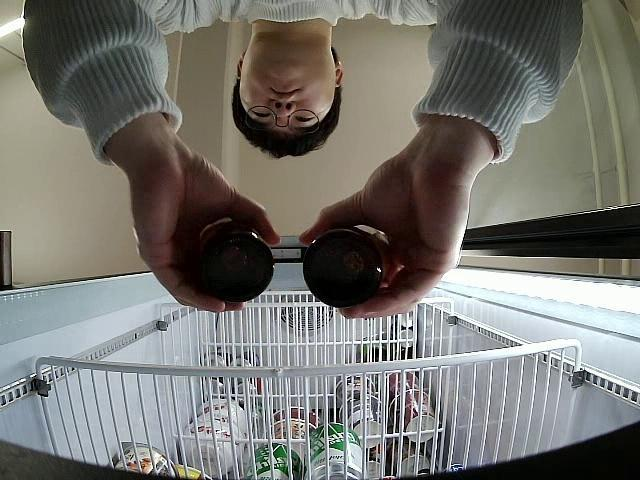17_vita500: (302, 226, 400, 306), (184, 216, 275, 301)
